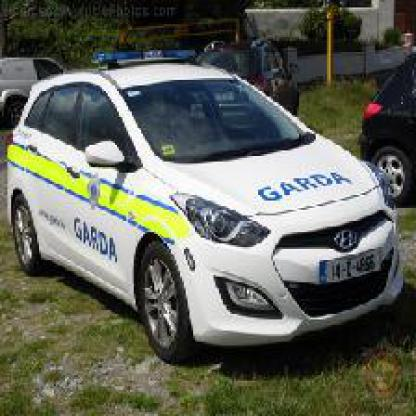emergency: (2, 41, 410, 336)
